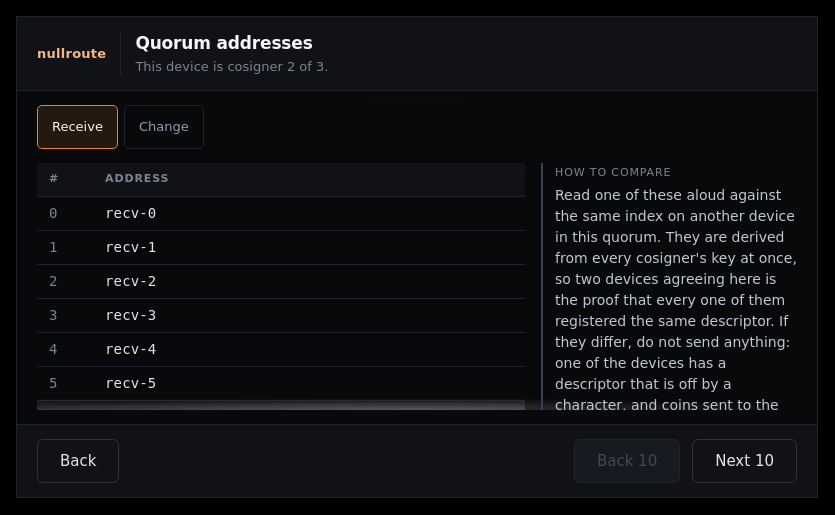
Test: QuorumAddressesScreen › clears-the-page-rather-than-leaving-a-stale-one-under-a-new-header
The image size is (835, 515).
Expected: the table with test id "quorum-rows" shows "recv-0", [105,204,156,220]
Click the button with test id "quorum-next" at x=745, y=461, box [692,439,797,483]
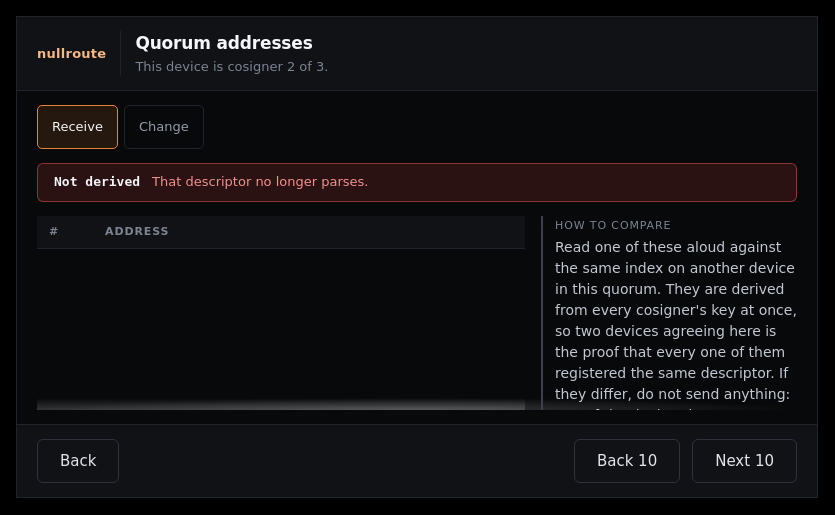
Now the element with test id "quorum-error" shows "no longer parses", box [152,174,368,189]
Now the cell with test id "quorum-rows" no longer shows "recv-0"
